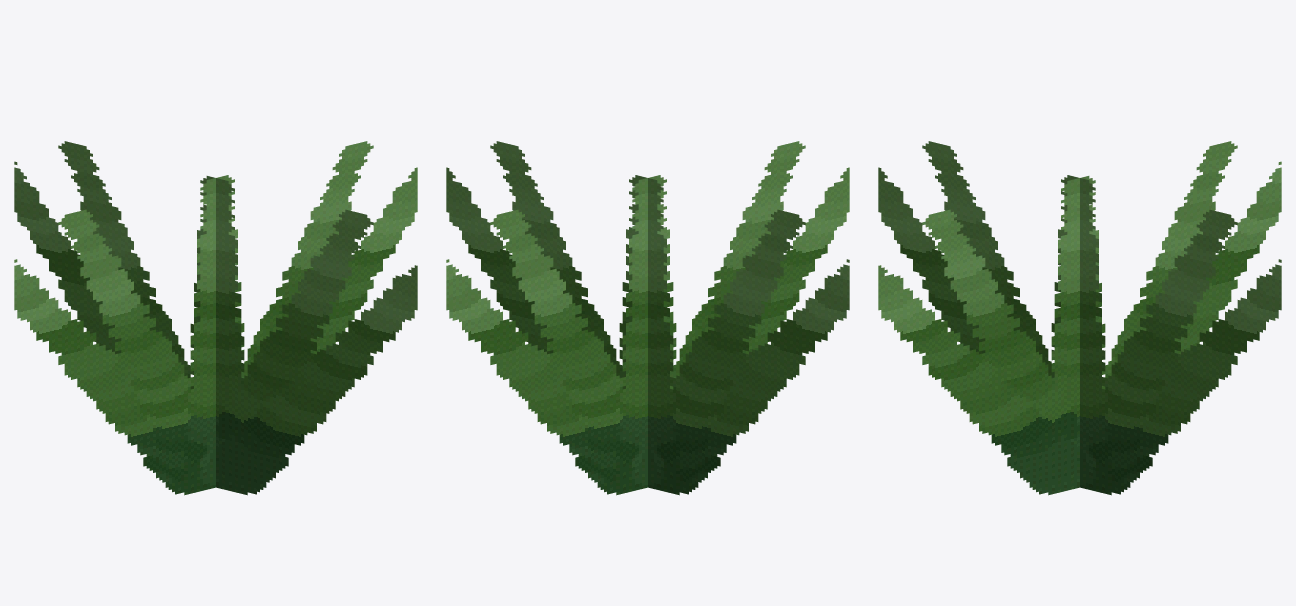
File: galho_folhado.glb
The picture shows the model from 3 angles, left to right: view 1: azimuth 30°, elevation 25°; view 2: azimuth 150°, elevation 25°; view 3: azimuth 270°, elevation 25°; orthographic projection.
Parts seen in each view (by area): view 1: galho_folhado; view 2: galho_folhado; view 3: galho_folhado.
Part boxes in pixels (x1,y1,x2,y2): galho_folhado: (14, 141, 417, 495); galho_folhado: (446, 141, 849, 495); galho_folhado: (878, 141, 1281, 495).
Size of the model in its own units: 0.82 by 0.74 by 0.7101.
1 material, 1 textured.
